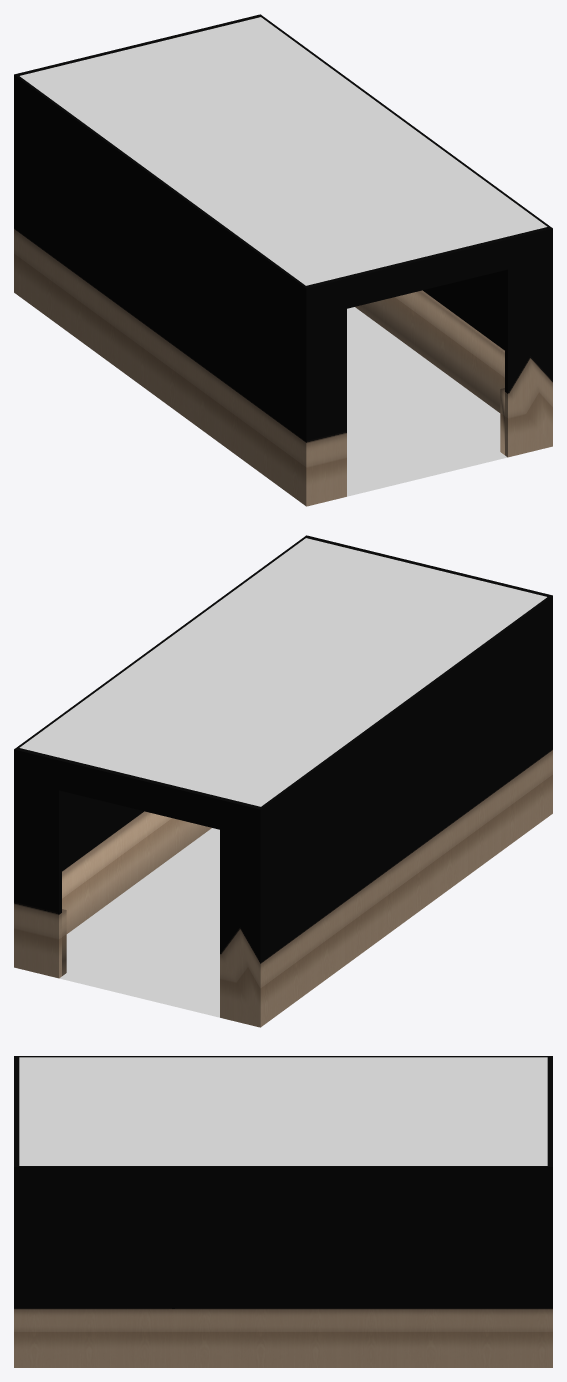
Rendered from Room_03.fbx.
3 renders of one model, top to bottom at view 1: azimuth 30°, elevation 25°; view 2: azimuth 150°, elevation 25°; view 3: azimuth 270°, elevation 25°, orthographic. The views are drawn at different scales.
Parts seen in each view (by area): view 1: Plane.002, Plane, Plane.001, Plane.003; view 2: Plane.002, Plane, Plane.001, Plane.003; view 3: Plane.002, Plane.
Part boxes in pixels (x1,y1,x2,y2): Plane.002: (14, 14, 552, 506); Plane: (20, 17, 547, 285); Plane.001: (347, 307, 507, 496); Plane.003: (423, 270, 504, 350); Plane.002: (14, 535, 552, 1027); Plane: (19, 538, 546, 806); Plane.001: (59, 828, 219, 1017); Plane.003: (62, 791, 143, 871); Plane.002: (14, 1056, 552, 1367); Plane: (19, 1057, 547, 1165).
Size of the model in its own units: 99.27 by 83.91 by 204.
